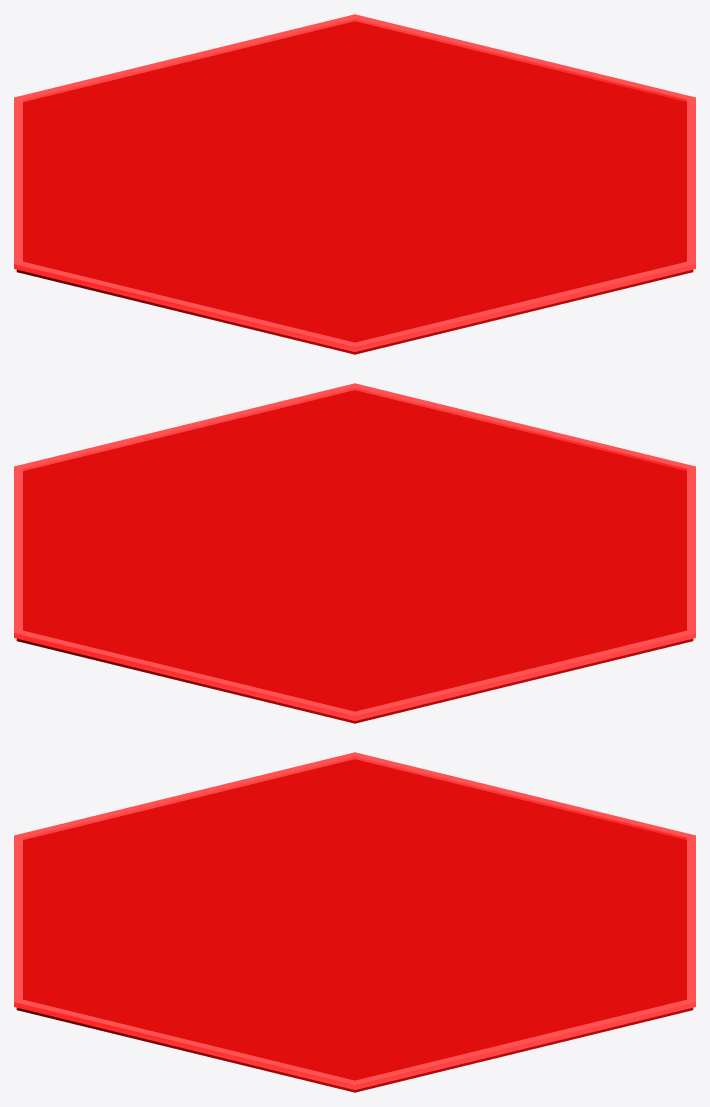
The model's file is Hex-2D linehex_RED.fbx.
The picture shows the model from 3 angles, top to bottom: view 1: azimuth 30°, elevation 25°; view 2: azimuth 150°, elevation 25°; view 3: azimuth 270°, elevation 25°; orthographic projection.
Parts seen in each view (by area): view 1: Cylinder_1_1; view 2: Cylinder_1_1; view 3: Cylinder_1_1.
Boxes of the visible parts, box(x1,y1,x2,y2) form: Cylinder_1_1: box(14, 14, 695, 354); Cylinder_1_1: box(14, 383, 695, 723); Cylinder_1_1: box(14, 752, 695, 1092).
Bounding box in the file's own units: 4642 × 58.09 × 4020.
